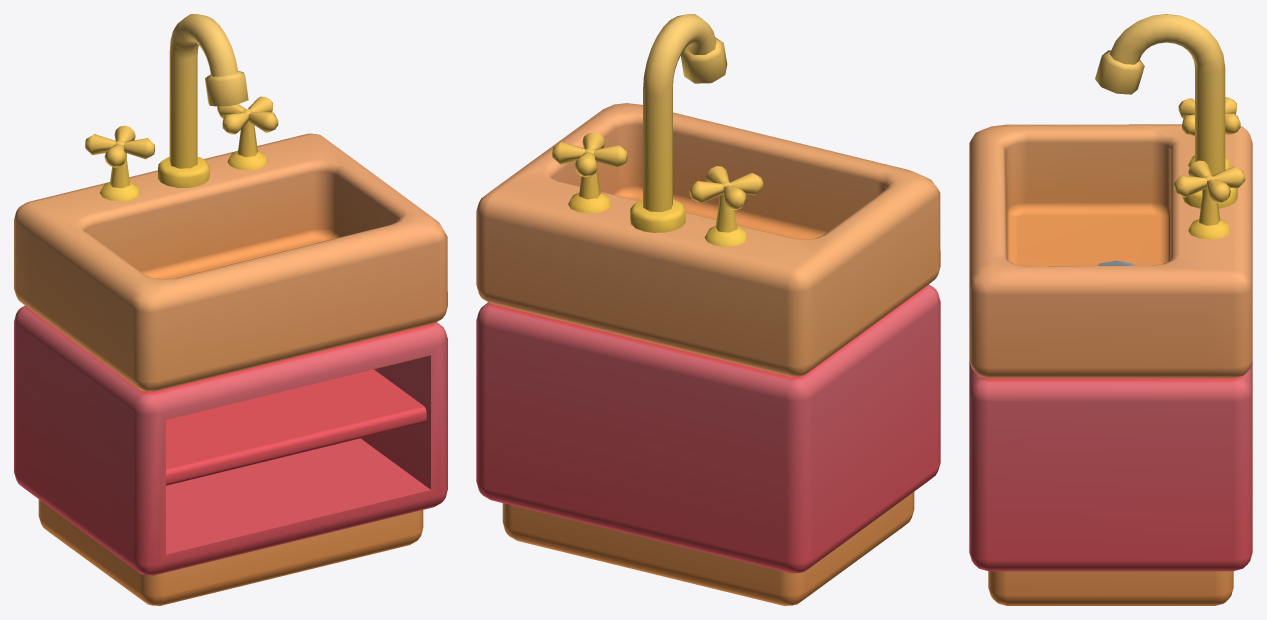
Rendered from Kitchen_sink_001.fbx.
3 renders of one model, left to right at view 1: azimuth 30°, elevation 25°; view 2: azimuth 150°, elevation 25°; view 3: azimuth 270°, elevation 25°, orthographic. The views are drawn at different scales.
Parts seen in each view (by area): view 1: Kitchen_sink_001; view 2: Kitchen_sink_001; view 3: Kitchen_sink_001.
Boxes of the visible parts, x1,y1,x2,y2 form: Kitchen_sink_001: [14, 14, 447, 605]; Kitchen_sink_001: [476, 14, 940, 605]; Kitchen_sink_001: [969, 14, 1252, 605].
Size of the model in its own units: 85.03 by 63.77 by 131.
